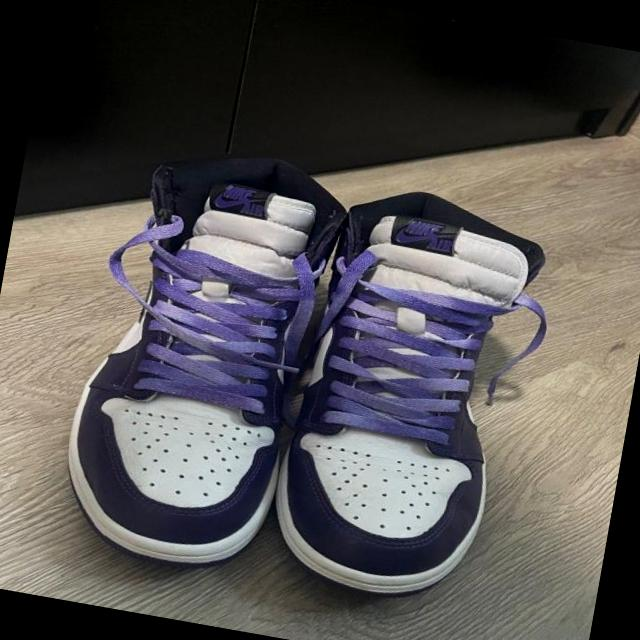nike_original_jordan: (44, 128, 365, 586), (258, 172, 552, 614)
